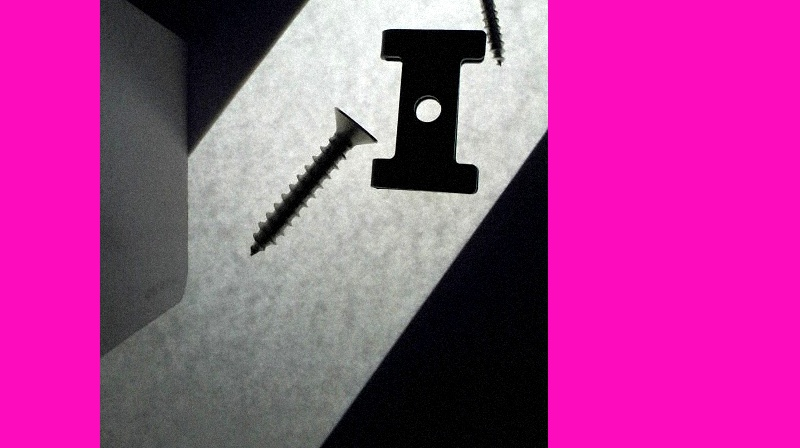O001: (442, 0, 517, 67)
O002: (370, 25, 484, 196)
S001: (244, 106, 377, 257)
